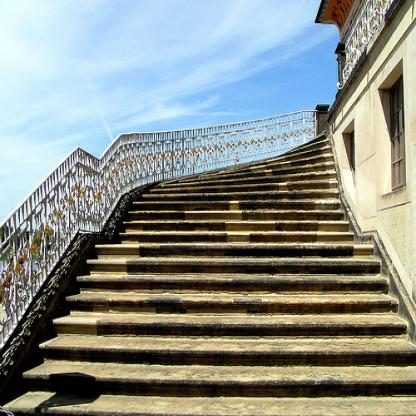stairs: (98, 246, 377, 416)
